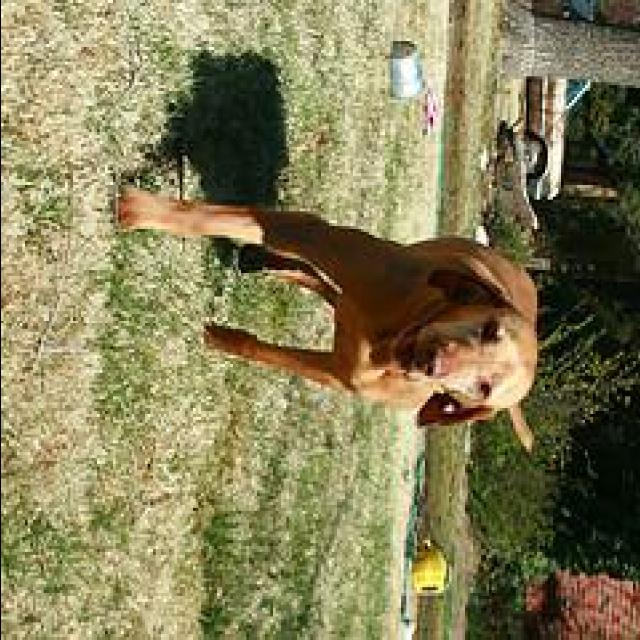vizsla: (117, 179, 539, 446)
